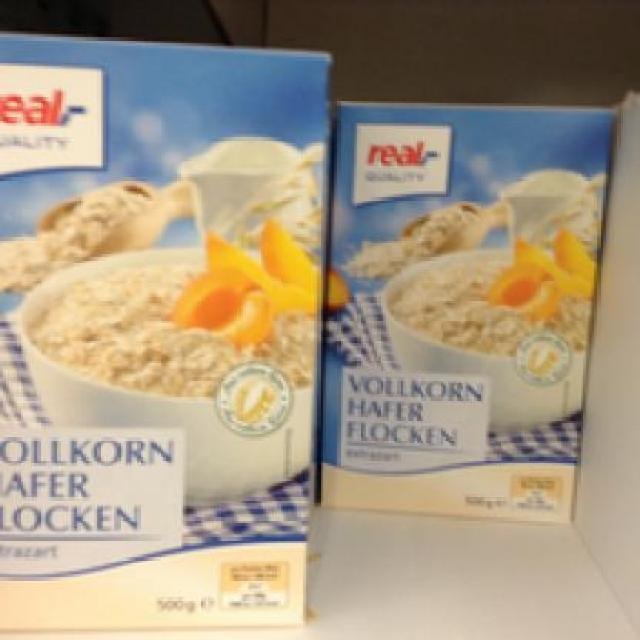Cereal: (0, 27, 335, 632), (317, 97, 612, 517)
